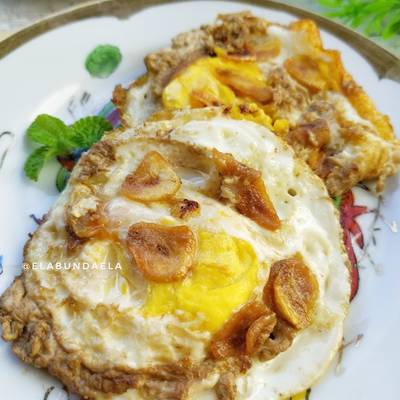Telur: (47, 108, 315, 387)
